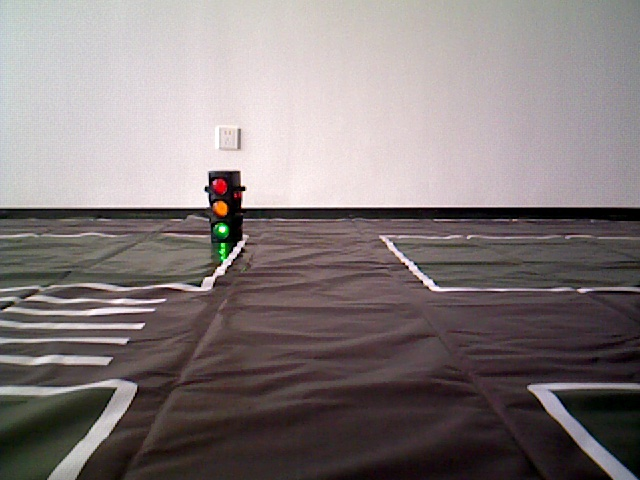green: (209, 171, 235, 234)
